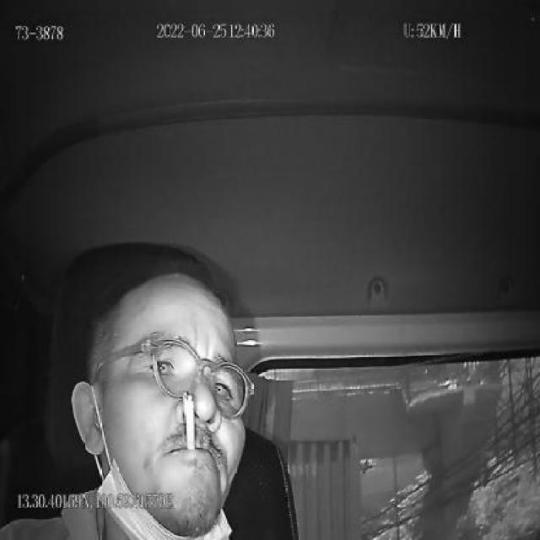smoking: (180, 389, 198, 455)
